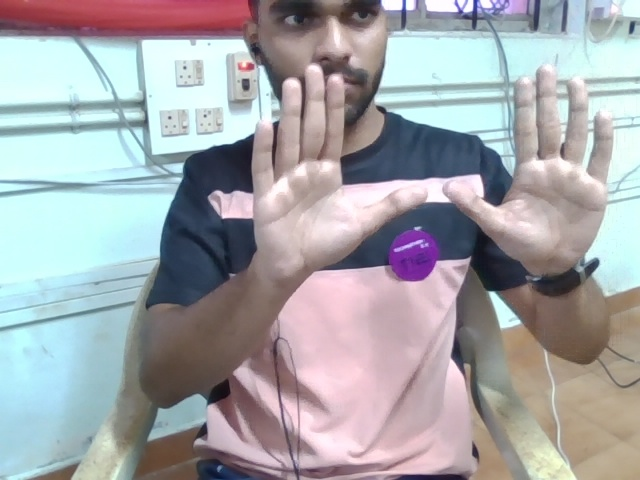All done: (245, 56, 631, 323)
